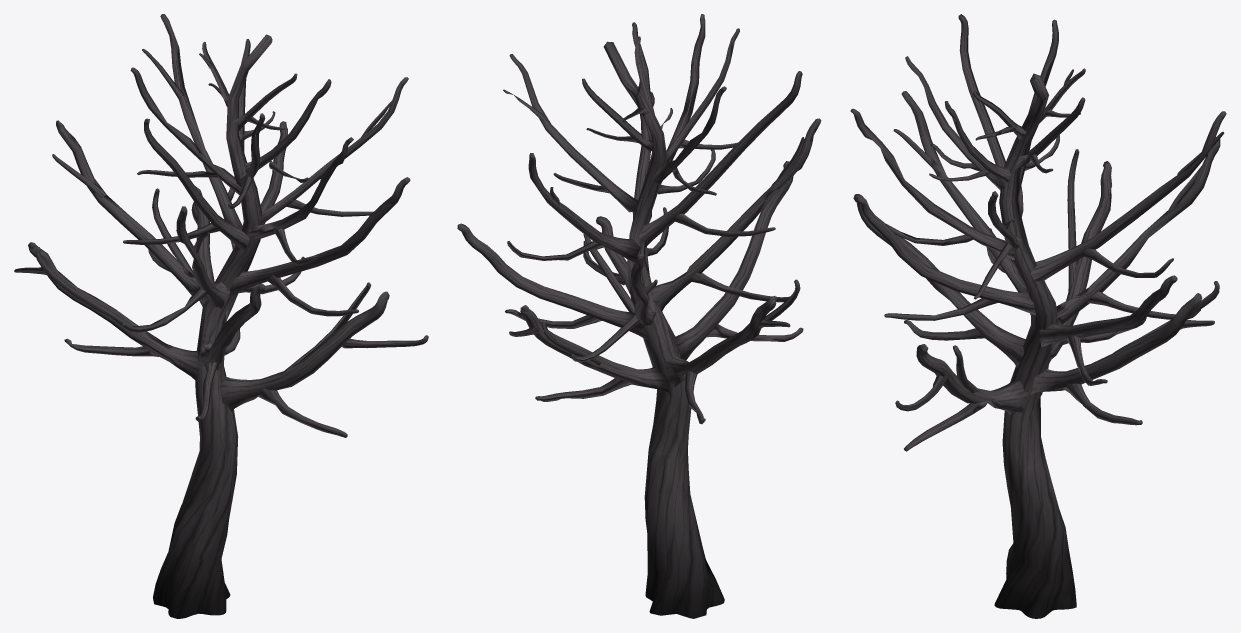
The model's file is dead1.glb.
3 renders of one model, left to right at view 1: azimuth 30°, elevation 25°; view 2: azimuth 150°, elevation 25°; view 3: azimuth 270°, elevation 25°, orthographic. The views are drawn at different scales.
Visible parts, largest first — view 1: DeadTree_1; view 2: DeadTree_1; view 3: DeadTree_1.
Boxes of the visible parts, left/top/right/bottom form: DeadTree_1: left=14, top=14, right=428, bottom=618; DeadTree_1: left=457, top=14, right=821, bottom=618; DeadTree_1: left=850, top=14, right=1226, bottom=618.
Bounding box in the file's own units: 6.15 × 9.5 × 5.75.
1 material, 1 textured.
